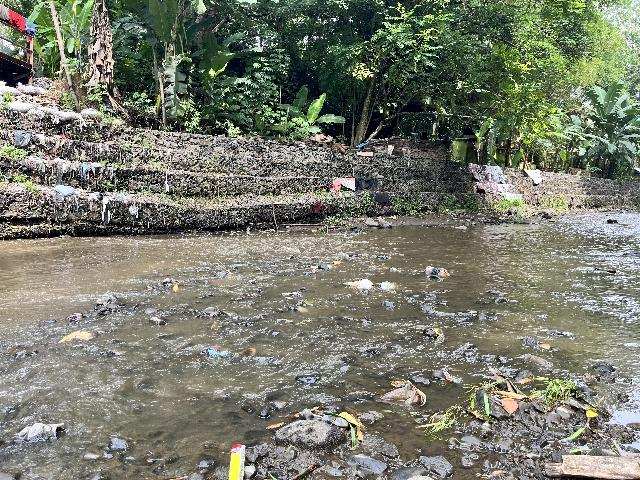Sampah Anorganik: (379, 381, 429, 407), (229, 446, 244, 480), (204, 342, 231, 359), (440, 365, 464, 384), (424, 265, 451, 279), (342, 279, 374, 289), (380, 282, 396, 292), (281, 292, 303, 298), (245, 278, 256, 284), (331, 261, 344, 265), (311, 267, 317, 274)
Sampah Organik: (469, 368, 577, 416), (267, 409, 368, 446), (551, 448, 640, 480), (423, 411, 461, 435), (55, 330, 94, 344), (239, 345, 260, 357), (64, 312, 83, 320), (428, 328, 441, 339), (586, 407, 596, 417), (294, 306, 308, 313), (209, 310, 220, 318), (541, 342, 550, 350), (304, 299, 314, 306), (173, 283, 179, 292)
